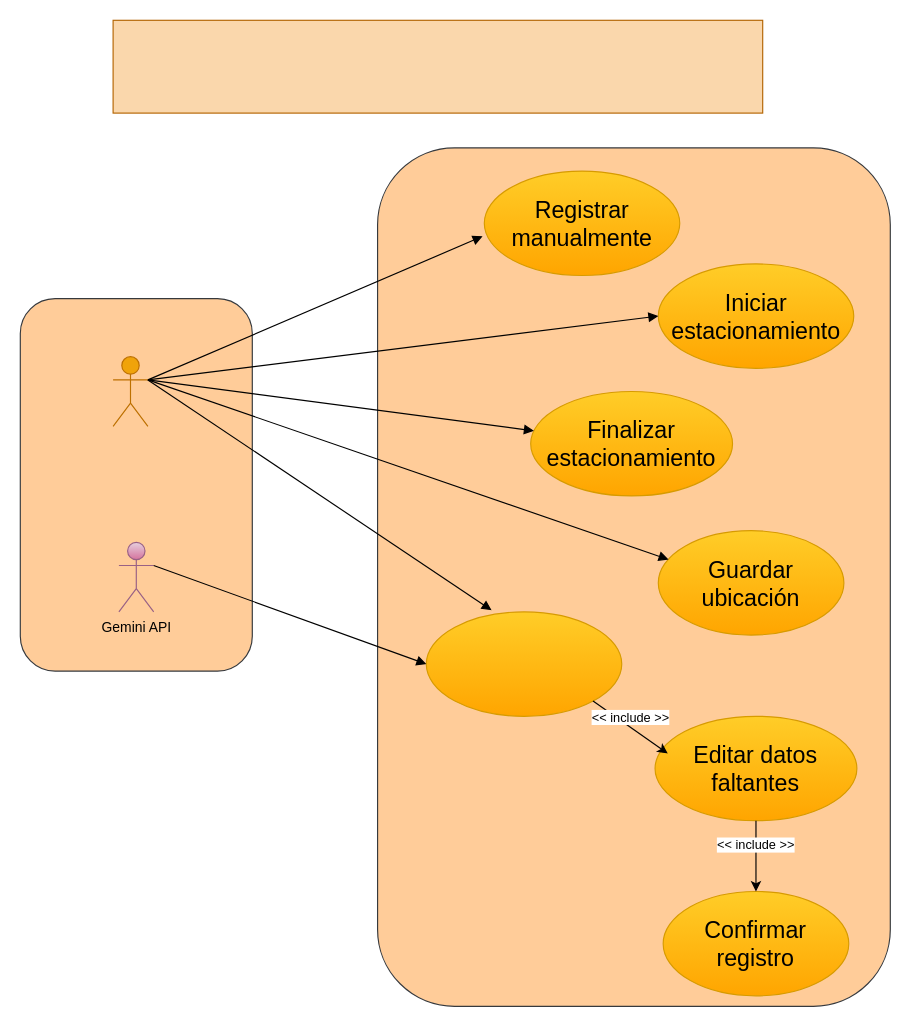
Some shapes in this 911 by 1027 pixel diagram are drawn without their labels. Here are the shapes that lost their labels. From the top down, the centre of each, then its label:
pixel 437 66: Sistema TAG OK - Módulo 3A Estacionamientos
pixel 130 391: Conductor
pixel 523 663: Registrar con IA
